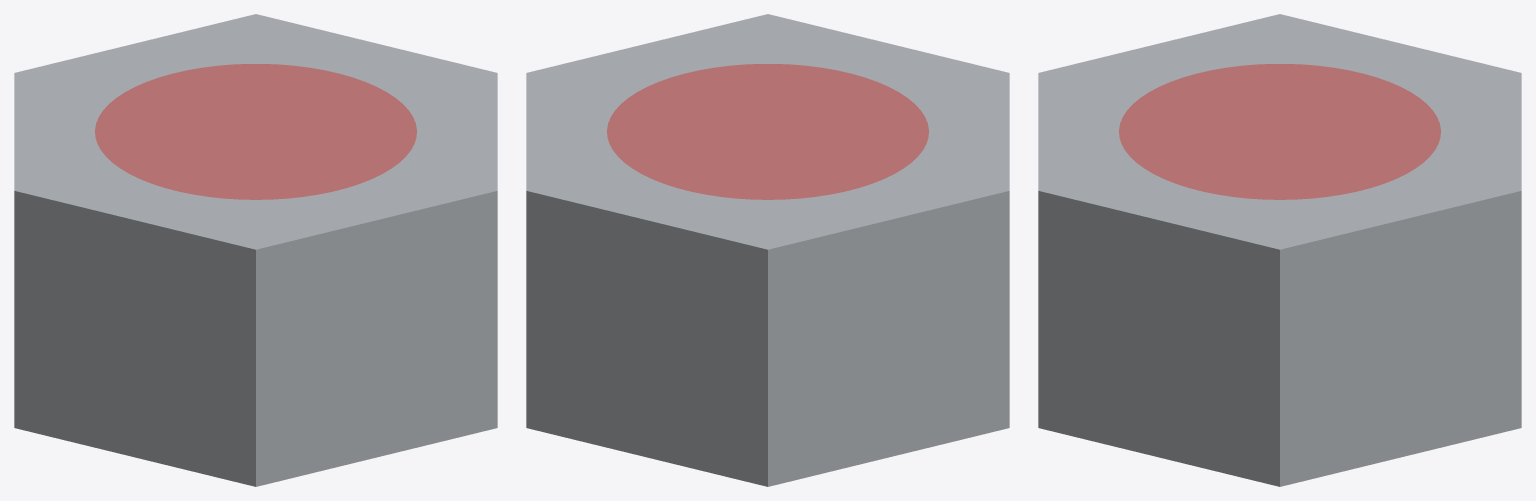
File: step_02.glb
The picture shows the model from 3 angles, left to right: view 1: azimuth 30°, elevation 25°; view 2: azimuth 150°, elevation 25°; view 3: azimuth 270°, elevation 25°; orthographic projection.
Parts seen in each view (by area): view 1: part__tie rod nut M16, removed__tie rod nut M16; view 2: part__tie rod nut M16, removed__tie rod nut M16; view 3: part__tie rod nut M16, removed__tie rod nut M16.
Boxes of the visible parts, x1,y1,x2,y2 form: part__tie rod nut M16: (14,14,497,486); removed__tie rod nut M16: (95,64,416,199); part__tie rod nut M16: (526,14,1009,486); removed__tie rod nut M16: (607,64,928,199); part__tie rod nut M16: (1038,14,1521,486); removed__tie rod nut M16: (1119,64,1440,199).
Bounding box in the file's own units: 27.7 × 13 × 23.99.
